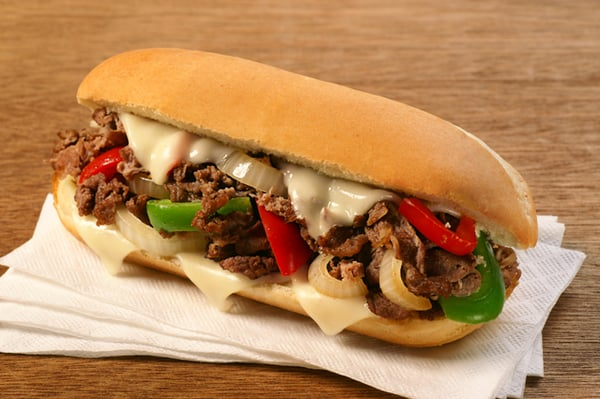soup: (57, 48, 548, 354)
